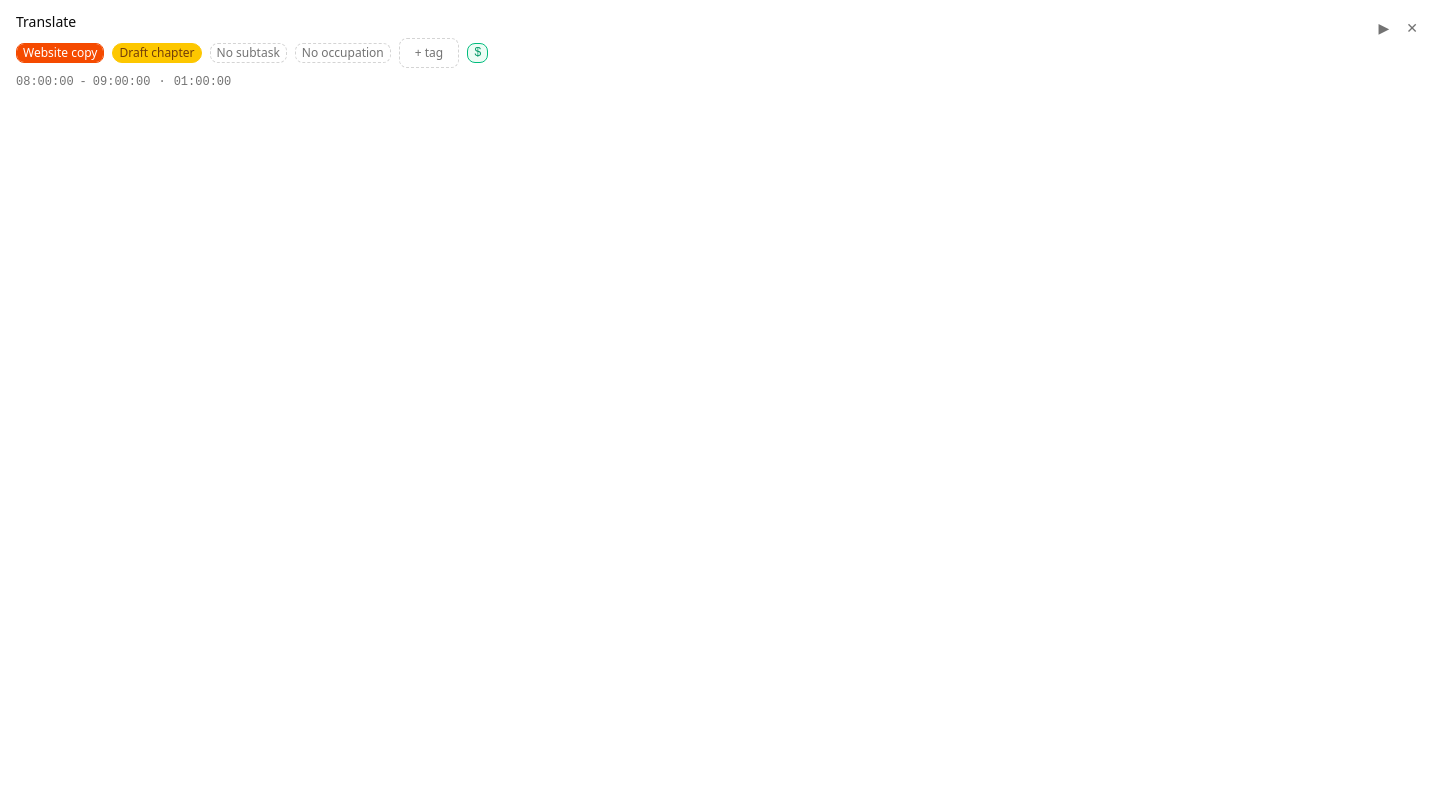
Test: TtcEntryRow › the task picker marks the linked task and closes back to its badge on Escape
Click the text titled "Edit task" at (157, 53), box [112,43,202,63]
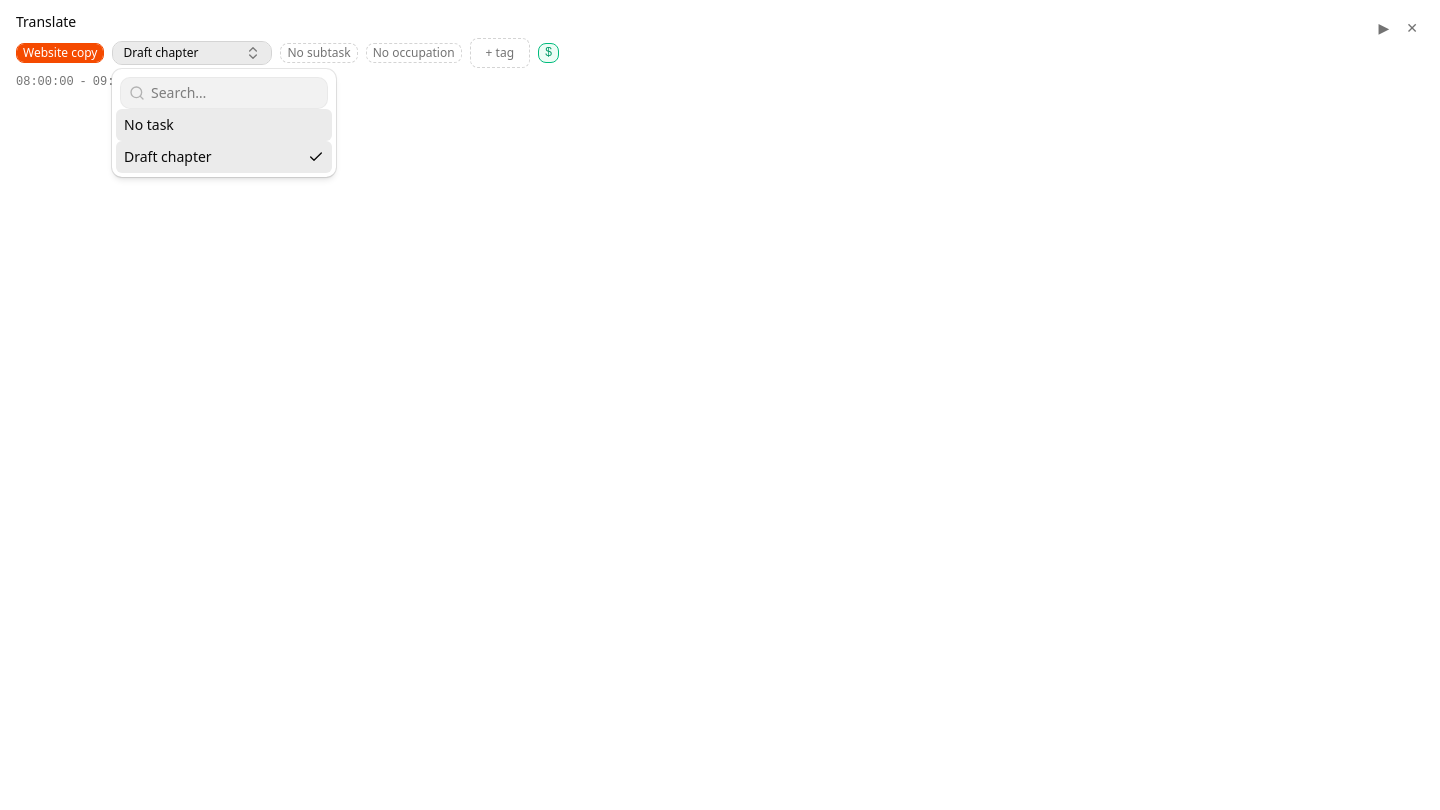
Press Escape in the dropdown with placeholder "Search…", box [145,83,327,103]
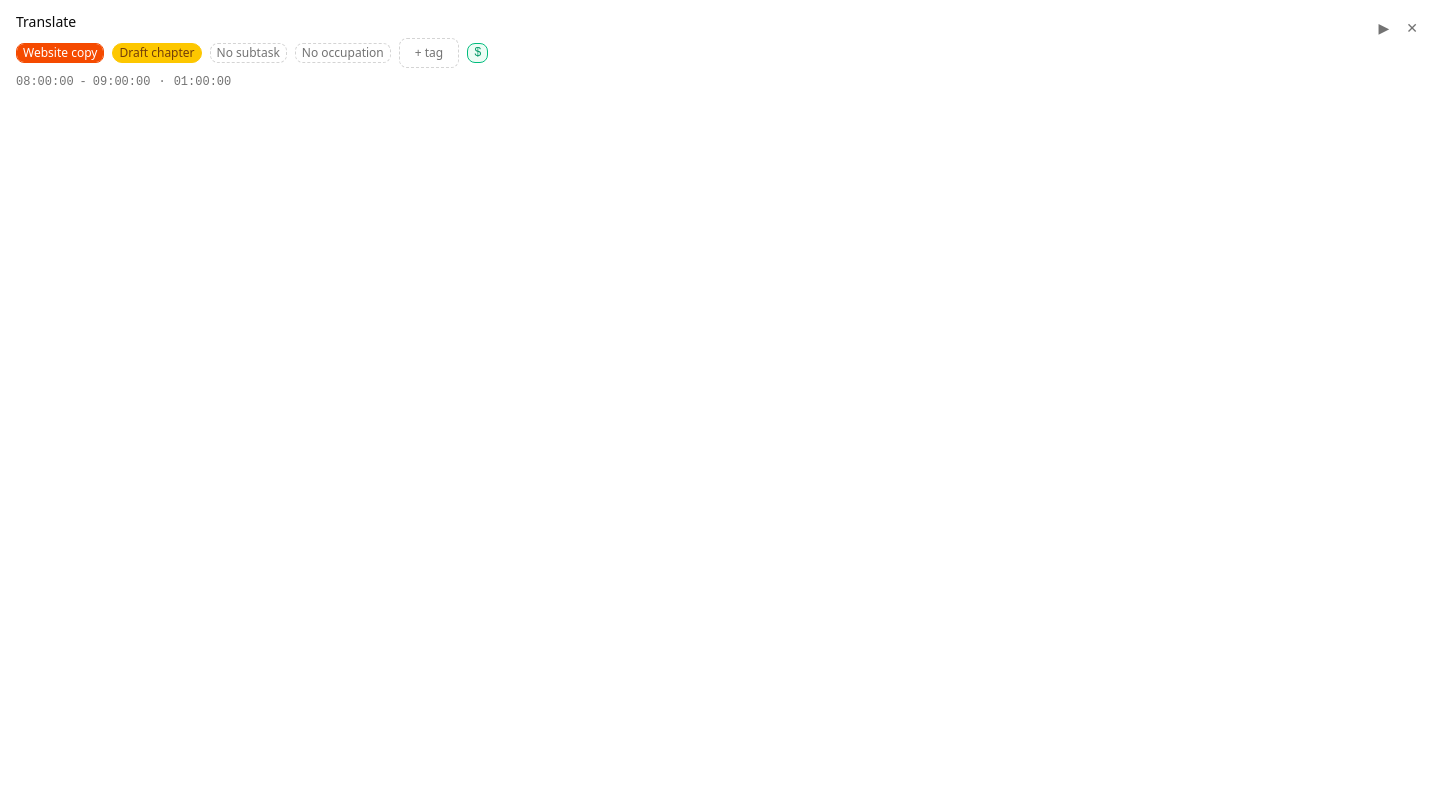
Expected: the text titled "Edit task" is shown, [112,43,202,63]
Expected: the dropdown is gone
